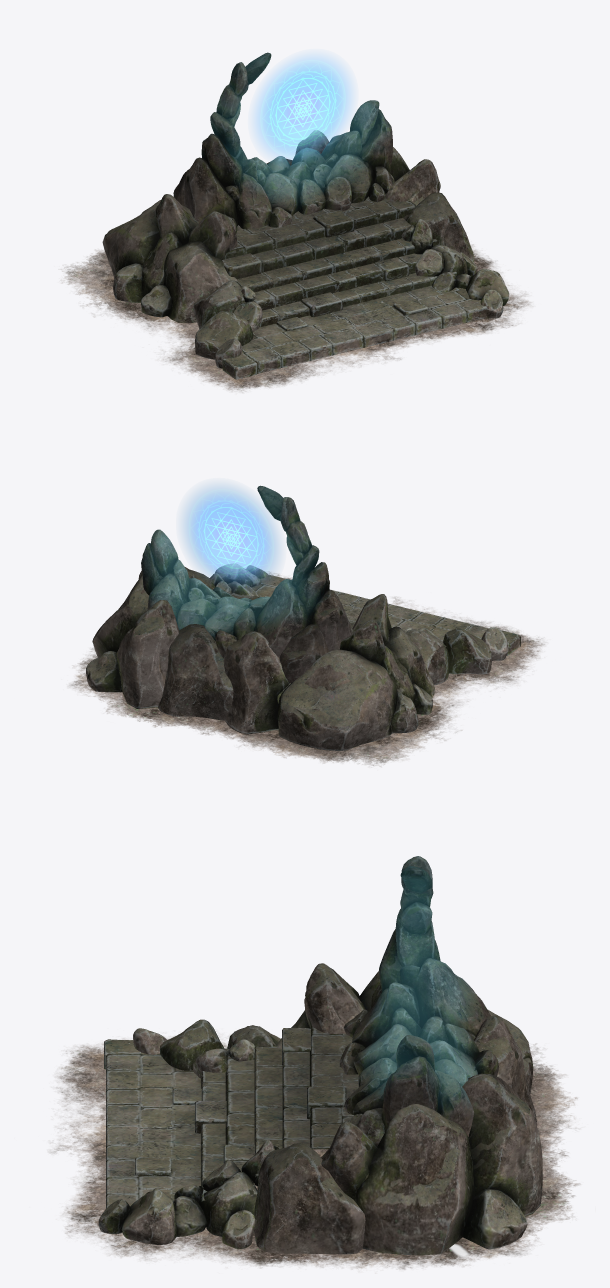
The model's file is magic_portal.glb.
3 views of the same model, one above another, from view 1: azimuth 30°, elevation 25°; view 2: azimuth 150°, elevation 25°; view 3: azimuth 270°, elevation 25° (orthographic). The views are drawn at different scales.
Parts seen in each view (by area): view 1: gameres:STAIRS_L, gameres:gameres:pPlane1, pPlane1, gameres:gameres:TT_L, gameres:ROC2_L, gameres:RI_L, gameres:ROC9_L, gameres:gameres:ROC22_L, gameres:ROCKY13_L, gameres:RERE_L, gameres:ROCKY5_L, gameres:ROCKY6_L (+24 smaller); view 2: gameres:ROC2_L, gameres:gameres:pPlane1, pPlane1, gameres:rock1_L, gameres:ROC_L, gameres:rock3_L, gameres:STAIRS_L, gameres:RURU_L, gameres:rock2_L, gameres:gameres:ROC22_L, gameres:RU_L, gameres:gameres:TT_L (+20 smaller); view 3: gameres:STAIRS_L, gameres:gameres:pPlane1, gameres:rock2_L, gameres:ROC9_L, gameres:rock3_L, gameres:RURU_L, gameres:ROCKY5_L, ROC4_L, gameres:ROCKY13_L, gameres:gameres:BB_L, gameres:ROC_L, gameres:gameres:ROC9_L (+27 smaller).
Boxes of the visible parts, x1,y1,x2,y2 form: gameres:STAIRS_L: (222, 196, 487, 378); gameres:gameres:pPlane1: (60, 244, 531, 392); pPlane1: (255, 56, 351, 159); gameres:gameres:TT_L: (164, 241, 237, 323); gameres:ROC2_L: (102, 200, 160, 278); gameres:RI_L: (184, 157, 238, 225); gameres:ROC9_L: (403, 192, 474, 261); gameres:gameres:ROC22_L: (195, 311, 253, 359); gameres:ROCKY13_L: (385, 159, 440, 205); gameres:RERE_L: (235, 172, 272, 229); gameres:ROCKY5_L: (188, 211, 237, 259); gameres:ROCKY6_L: (155, 194, 198, 244); gameres:ROC2_L: (277, 649, 397, 750); gameres:gameres:pPlane1: (69, 572, 544, 766); pPlane1: (183, 485, 279, 589); gameres:rock1_L: (158, 624, 233, 720); gameres:ROC_L: (224, 631, 290, 734); gameres:rock3_L: (116, 600, 178, 708); gameres:STAIRS_L: (210, 574, 520, 646); gameres:RURU_L: (254, 579, 309, 657); gameres:rock2_L: (92, 575, 148, 657); gameres:gameres:ROC22_L: (443, 628, 492, 674); gameres:RU_L: (279, 624, 329, 682); gameres:gameres:TT_L: (384, 627, 434, 697); gameres:STAIRS_L: (106, 1024, 358, 1208); gameres:gameres:pPlane1: (50, 1038, 580, 1269); gameres:rock2_L: (354, 1104, 474, 1255); gameres:ROC9_L: (254, 1143, 365, 1254); gameres:rock3_L: (462, 1074, 542, 1216); gameres:RURU_L: (414, 958, 490, 1039); gameres:ROCKY5_L: (304, 963, 365, 1033); ROC4_L: (462, 1188, 527, 1249); gameres:ROCKY13_L: (321, 1121, 377, 1199); gameres:gameres:BB_L: (381, 1056, 441, 1129); gameres:ROC_L: (474, 1015, 536, 1124); gameres:gameres:ROC9_L: (121, 1188, 177, 1244).
Size of the model in its own units: 2.37 by 1.36 by 2.37.
5 materials, 5 textured.
